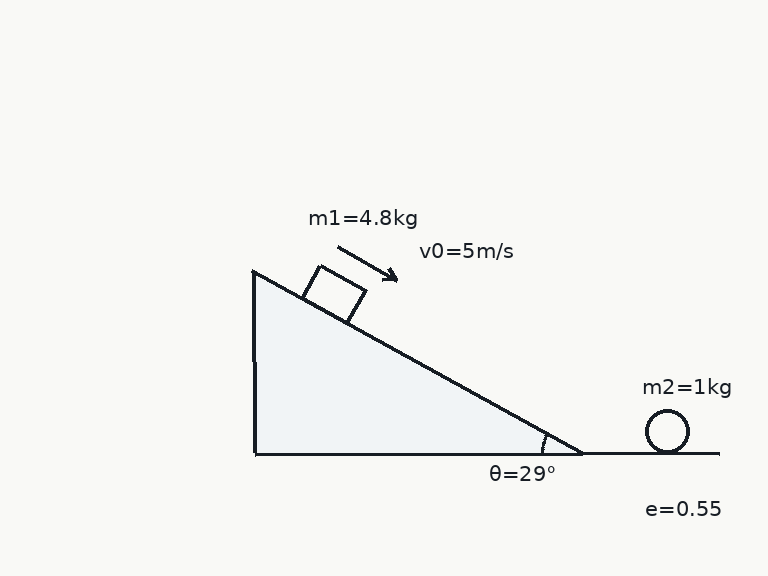ball: (643, 407, 691, 455)
block: (300, 263, 367, 324)
ramp: (251, 269, 584, 455)
